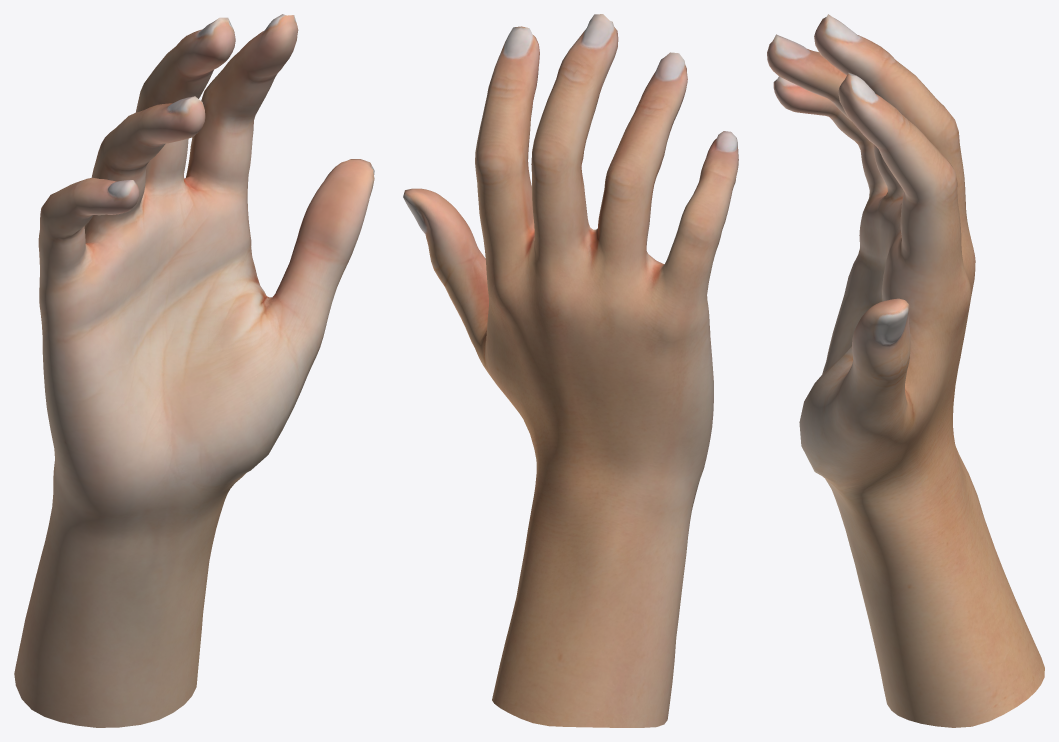
File: hand.glb
3 renders of one model, left to right at view 1: azimuth 30°, elevation 25°; view 2: azimuth 150°, elevation 25°; view 3: azimuth 270°, elevation 25°, orthographic. The views are drawn at different scales.
Visible parts, largest first — view 1: geometry_0; view 2: geometry_0; view 3: geometry_0.
Part boxes in pixels (x1,y1,x2,y2): geometry_0: (14,14,374,727); geometry_0: (403,14,738,727); geometry_0: (767,14,1044,727).
Bounding box in the file's own units: 12.24 × 24.96 × 8.92.
1 material, 1 textured.
